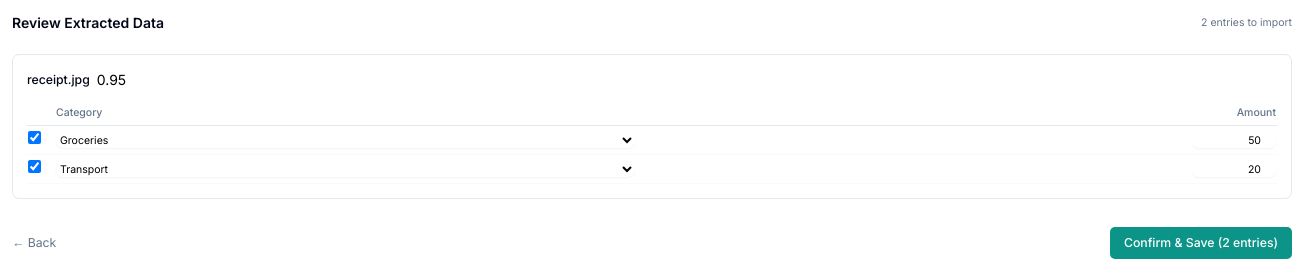
Test: ReviewStep › can uncheck an entry
Click the 1st checkbox. click: (34, 138)
box: [28,131,41,144]
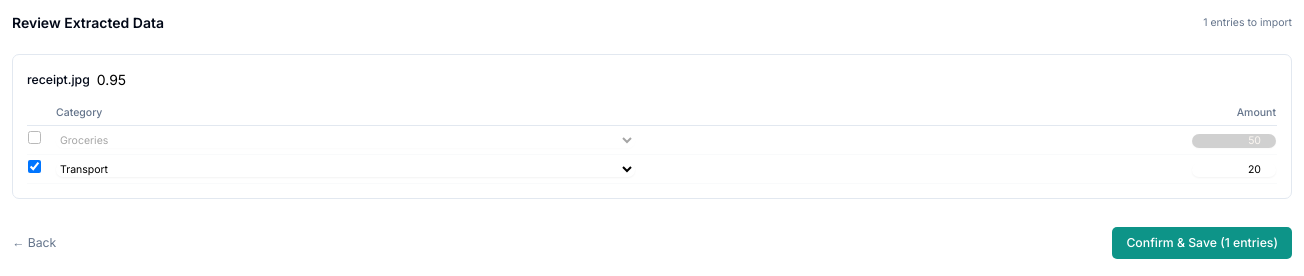
Result: the text "1 entries to import" is shown at [1203,16,1292,30]
